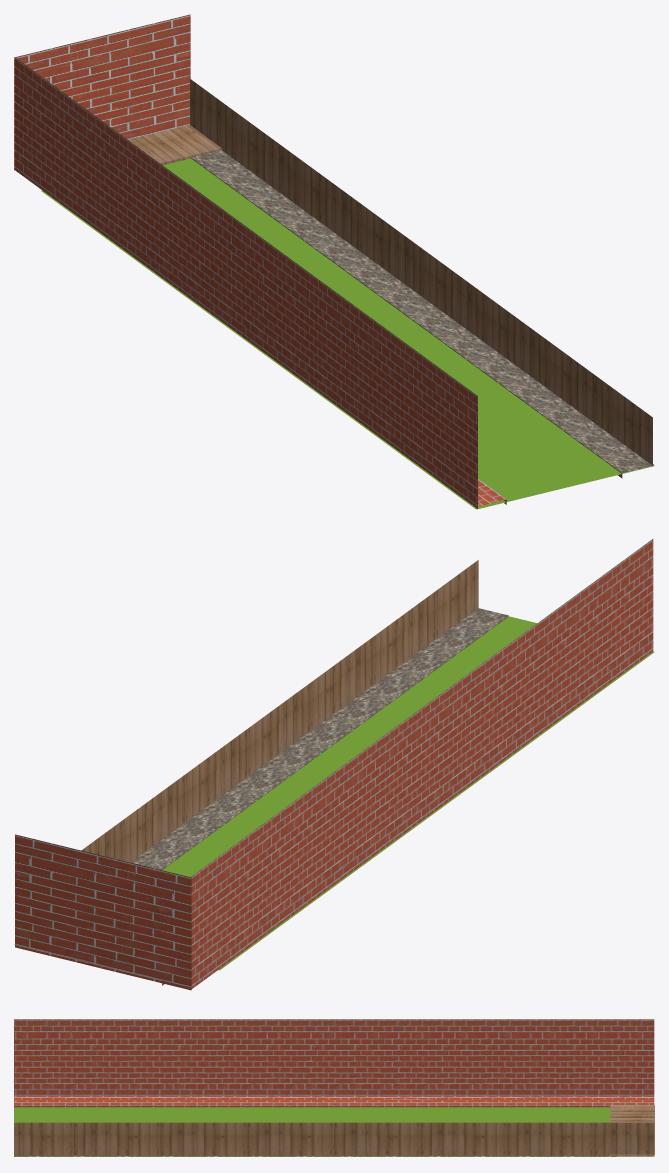
The picture shows the model from 3 angles, top to bottom: view 1: azimuth 30°, elevation 25°; view 2: azimuth 150°, elevation 25°; view 3: azimuth 270°, elevation 25°; orthographic projection. The views are drawn at different scales.
Visible parts, largest first — view 1: Bg 1.003, Bg 1.001, Bg 1, Bg 1.006, Bg 1.002, Bg 1.005; view 2: Bg 1.003, Bg 1.002, Bg 1.001, Bg 1.006, Bg 1; view 3: Bg 1.003, Bg 1.001, Bg 1, Bg 1.004, Bg 1.005, Bg 1.006.
Boxes of the visible parts, x1,y1,x2,y2 form: Bg 1.003: (15, 57, 477, 508); Bg 1.001: (190, 79, 652, 466); Bg 1: (41, 158, 653, 509); Bg 1.006: (191, 150, 654, 478); Bg 1.002: (14, 14, 190, 170); Bg 1.005: (128, 125, 221, 165); Bg 1.003: (191, 539, 653, 988); Bg 1.002: (15, 834, 191, 990); Bg 1.001: (81, 560, 478, 862); Bg 1.006: (131, 608, 508, 869); Bg 1: (162, 616, 654, 970); Bg 1.003: (14, 1019, 654, 1095); Bg 1.001: (14, 1122, 654, 1156); Bg 1: (14, 1107, 615, 1156); Bg 1.004: (14, 1096, 654, 1107); Bg 1.005: (610, 1105, 654, 1155); Bg 1.006: (14, 1156, 611, 1156).
Size of the model in its own units: 11.91 by 7.5 by 53.51.
Materials: 1 (1 with a texture image).
